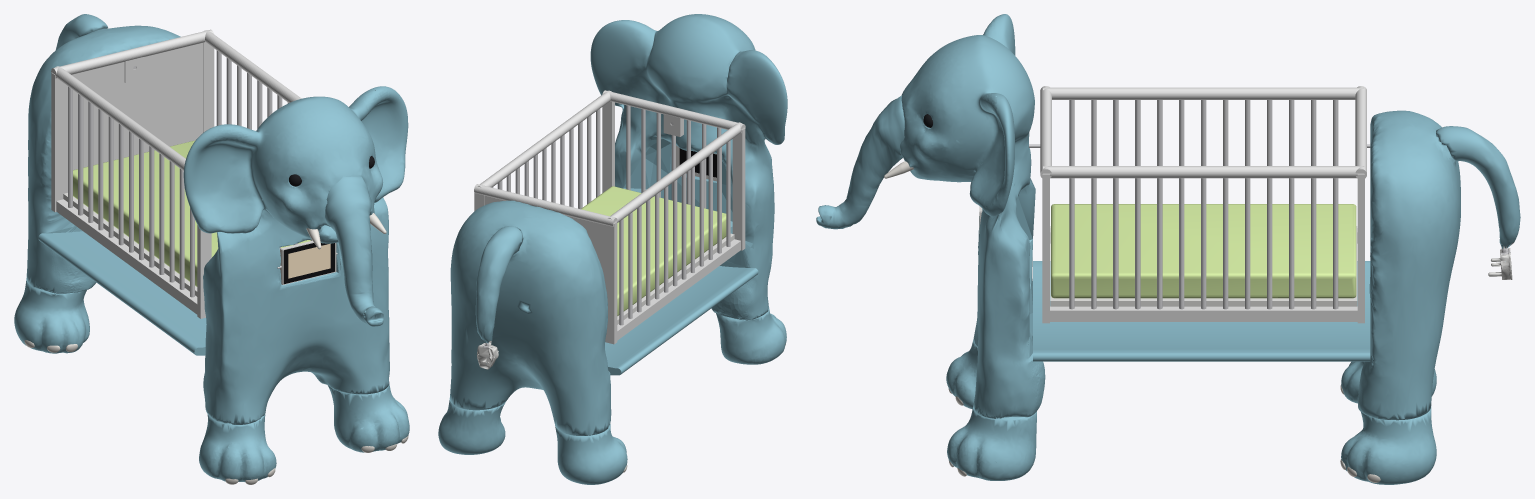
File: 3Dmodel-opt.glb
The picture shows the model from 3 angles, left to right: view 1: azimuth 30°, elevation 25°; view 2: azimuth 150°, elevation 25°; view 3: azimuth 270°, elevation 25°; orthographic projection. The views are drawn at different scales.
Visible parts, largest first — view 1: Body_Front_HeadChest, Belly_Tray, Bassinet_Frame, Hinge_Pin_Head, Display_ActiveArea, Eye_L; view 2: Belly_Tray, Body_Front_HeadChest, Hinge_Pin_Head, Bassinet_Frame; view 3: Belly_Tray, Hinge_Pin_Head, Body_Front_HeadChest, Bassinet_Frame.
Part boxes in pixels (x1,y1,x2,y2): Body_Front_HeadChest: [183, 86, 408, 424]; Belly_Tray: [14, 14, 409, 482]; Bassinet_Frame: [51, 29, 301, 318]; Hinge_Pin_Head: [24, 50, 408, 484]; Display_ActiveArea: [288, 243, 330, 278]; Eye_L: [283, 156, 374, 284]; Belly_Tray: [438, 200, 786, 484]; Body_Front_HeadChest: [590, 14, 787, 320]; Hinge_Pin_Head: [477, 105, 785, 472]; Bassinet_Frame: [474, 90, 745, 344]; Belly_Tray: [816, 95, 1520, 484]; Hinge_Pin_Head: [948, 100, 1513, 482]; Body_Front_HeadChest: [900, 14, 1045, 418]; Bassinet_Frame: [1040, 86, 1366, 323].
Bounding box in the file's own units: 0.8225 × 1.28 × 2.07.
Materials: 5 (5 with a texture image).
